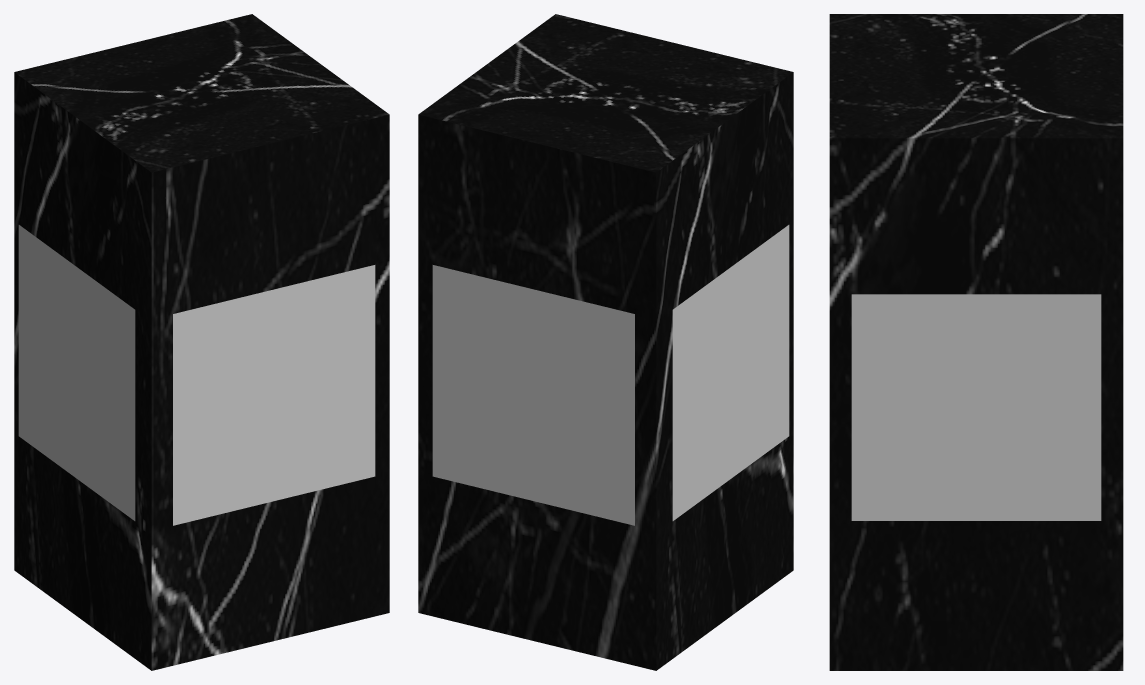
File: Columna.glb
3 views of the same model, side by side, from view 1: azimuth 30°, elevation 25°; view 2: azimuth 150°, elevation 25°; view 3: azimuth 270°, elevation 25° (orthographic). The views are drawn at different scales.
Visible parts, largest first — view 1: Cube.058, Plane.001, Plane; view 2: Cube.058, Plane.003, Plane; view 3: Cube.058, Plane.002.
Part boxes in pixels (box(x1,y1,x2,y2)): Cube.058: box(14, 14, 389, 670); Plane.001: box(173, 265, 375, 525); Plane: box(18, 225, 135, 520); Cube.058: box(418, 14, 793, 670); Plane.003: box(432, 265, 634, 525); Plane: box(672, 225, 789, 520); Cube.058: box(829, 14, 1123, 670); Plane.002: box(851, 294, 1101, 520).
Size of the model in its own units: 2.1 by 4 by 2.1.
Materials: 1 (1 with a texture image).
